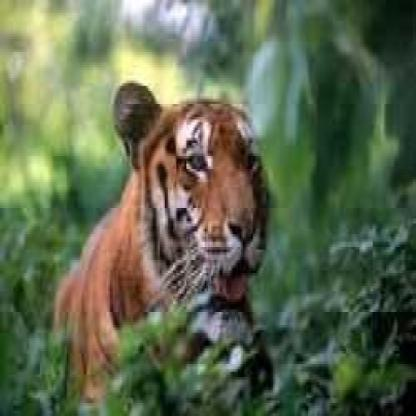Tiger: (17, 59, 290, 373)
